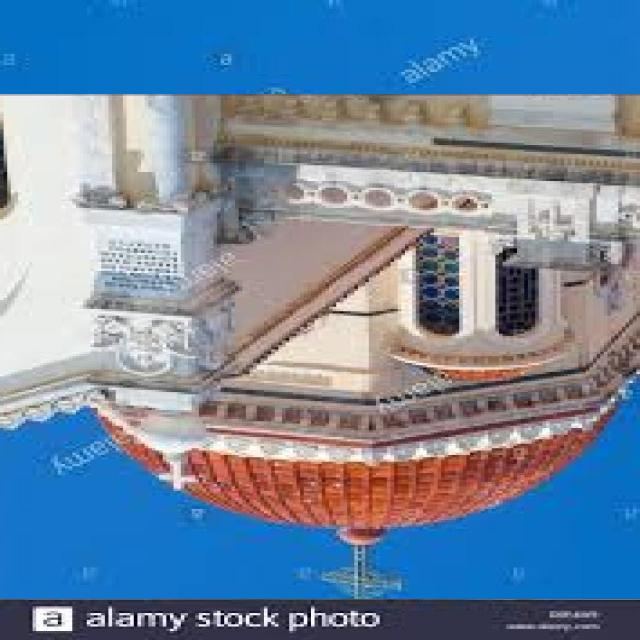Agios Minas: (1, 95, 640, 600)
